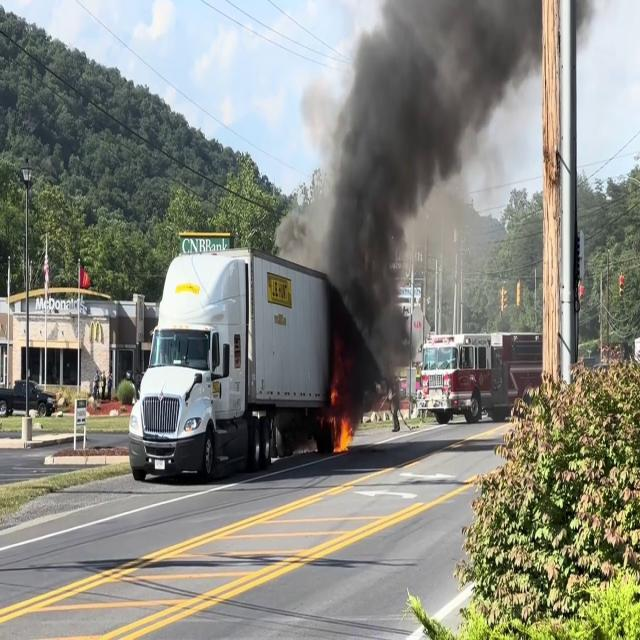Fire: (330, 408, 356, 456)
Smoke: (292, 1, 534, 393)
